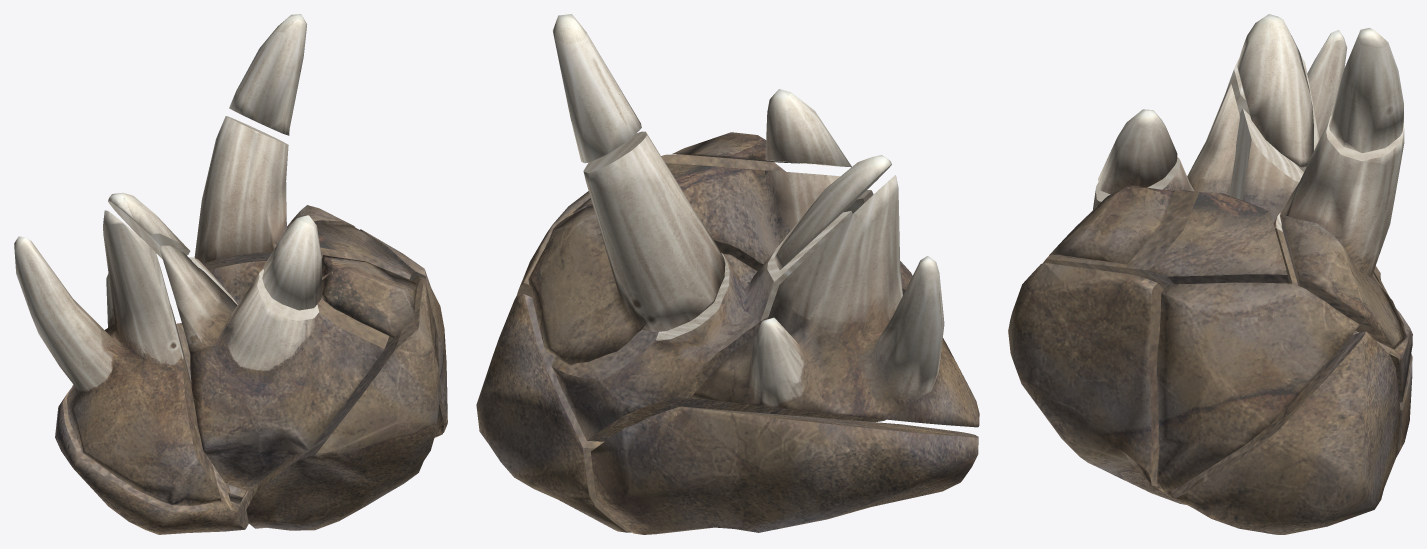
File: SM_FossilNode_6_Pieces.fbx
3 views of the same model, side by side, from view 1: azimuth 30°, elevation 25°; view 2: azimuth 150°, elevation 25°; view 3: azimuth 270°, elevation 25° (orthographic). The views are drawn at different scales.
Parts seen in each view (by area): view 1: SM_FossilNode_6_Pieces_4, SM_FossilNode_6_Pieces_1, SM_FossilNode_6_Pieces_9, SM_FossilNode_6_Pieces_8, SM_FossilNode_6_Pieces_3, SM_FossilNode_6_Pieces_10, SM_FossilNode_6_Pieces_6, SM_FossilNode_6_Pieces_7, SM_FossilNode_6_Pieces_2, SM_FossilNode_6_Pieces_12, SM_FossilNode_6_Pieces_5; view 2: SM_FossilNode_6_Pieces_3, SM_FossilNode_6_Pieces_1, SM_FossilNode_6_Pieces_8, SM_FossilNode_6_Pieces_5, SM_FossilNode_6_Pieces_11, SM_FossilNode_6_Pieces_4, SM_FossilNode_6_Pieces_10, SM_FossilNode_6_Pieces_7, SM_FossilNode_6_Pieces_2, SM_FossilNode_6_Pieces_6, SM_FossilNode_6_Pieces_9, SM_FossilNode_6_Pieces_12; view 3: SM_FossilNode_6_Pieces_12, SM_FossilNode_6_Pieces_9, SM_FossilNode_6_Pieces_11, SM_FossilNode_6_Pieces_8, SM_FossilNode_6_Pieces_4, SM_FossilNode_6_Pieces_2, SM_FossilNode_6_Pieces_10, SM_FossilNode_6_Pieces_5, SM_FossilNode_6_Pieces_6, SM_FossilNode_6_Pieces_7, SM_FossilNode_6_Pieces_1, SM_FossilNode_6_Pieces_3.
Part boxes in pixels (x1,y1,x2,y2): SM_FossilNode_6_Pieces_4: [159, 224, 410, 491]; SM_FossilNode_6_Pieces_1: [14, 210, 221, 505]; SM_FossilNode_6_Pieces_9: [246, 275, 444, 530]; SM_FossilNode_6_Pieces_8: [194, 116, 355, 270]; SM_FossilNode_6_Pieces_3: [55, 323, 262, 534]; SM_FossilNode_6_Pieces_10: [229, 14, 306, 135]; SM_FossilNode_6_Pieces_6: [321, 255, 417, 337]; SM_FossilNode_6_Pieces_7: [262, 215, 322, 310]; SM_FossilNode_6_Pieces_2: [108, 192, 190, 258]; SM_FossilNode_6_Pieces_12: [360, 229, 447, 432]; SM_FossilNode_6_Pieces_5: [189, 257, 266, 504]; SM_FossilNode_6_Pieces_3: [591, 406, 978, 534]; SM_FossilNode_6_Pieces_1: [691, 175, 979, 427]; SM_FossilNode_6_Pieces_8: [528, 131, 725, 365]; SM_FossilNode_6_Pieces_5: [552, 211, 885, 441]; SM_FossilNode_6_Pieces_11: [476, 294, 631, 532]; SM_FossilNode_6_Pieces_4: [573, 163, 912, 294]; SM_FossilNode_6_Pieces_10: [553, 14, 641, 163]; SM_FossilNode_6_Pieces_7: [765, 89, 851, 167]; SM_FossilNode_6_Pieces_2: [774, 155, 891, 270]; SM_FossilNode_6_Pieces_6: [672, 132, 799, 163]; SM_FossilNode_6_Pieces_9: [661, 154, 785, 171]; SM_FossilNode_6_Pieces_12: [517, 191, 590, 297]; SM_FossilNode_6_Pieces_12: [1156, 282, 1359, 493]; SM_FossilNode_6_Pieces_9: [1008, 263, 1186, 504]; SM_FossilNode_6_Pieces_11: [1171, 331, 1400, 534]; SM_FossilNode_6_Pieces_8: [1280, 115, 1407, 349]; SM_FossilNode_6_Pieces_4: [1043, 83, 1288, 289]; SM_FossilNode_6_Pieces_2: [1237, 14, 1313, 167]; SM_FossilNode_6_Pieces_10: [1329, 28, 1403, 152]; SM_FossilNode_6_Pieces_5: [1229, 108, 1412, 402]; SM_FossilNode_6_Pieces_6: [1049, 185, 1174, 264]; SM_FossilNode_6_Pieces_7: [1098, 109, 1177, 194]; SM_FossilNode_6_Pieces_1: [1226, 30, 1383, 289]; SM_FossilNode_6_Pieces_3: [1374, 266, 1412, 457].
Bounding box in the file's own units: 0.8886 × 0.9679 × 0.7021.
